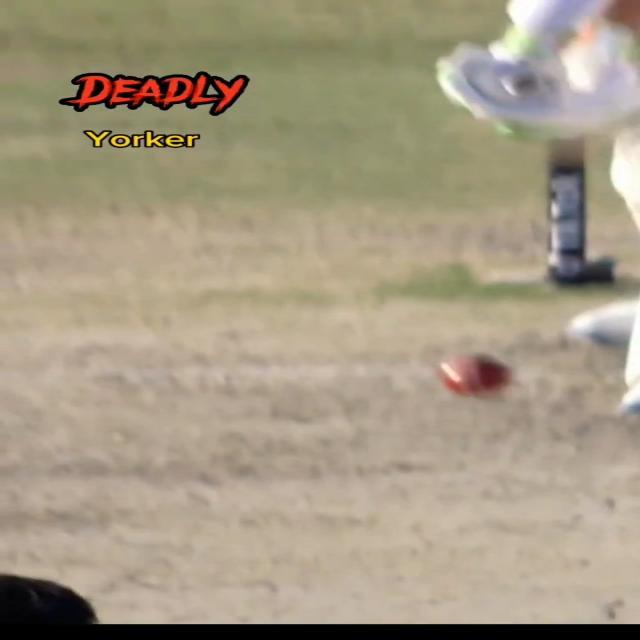Cricket ball: (437, 352, 515, 401)
